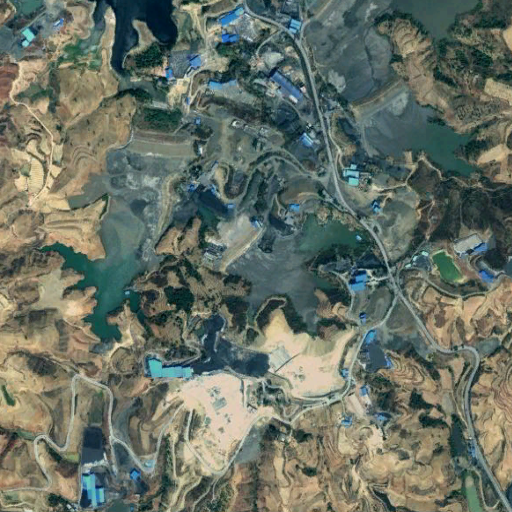tp: (55, 105, 194, 341), (210, 206, 378, 341), (356, 77, 487, 187)
